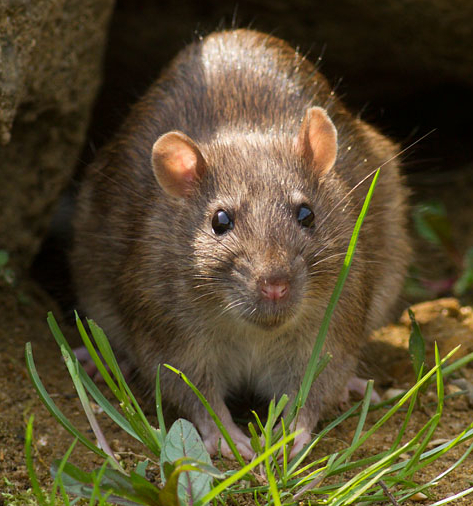rat: (55, 19, 424, 432)
